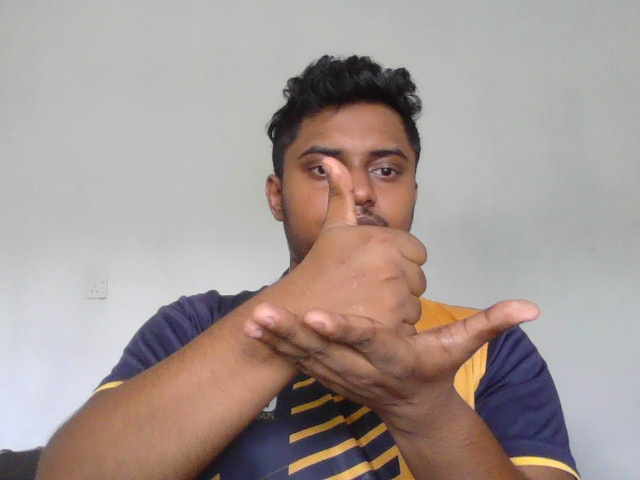Help: (241, 155, 540, 400)
